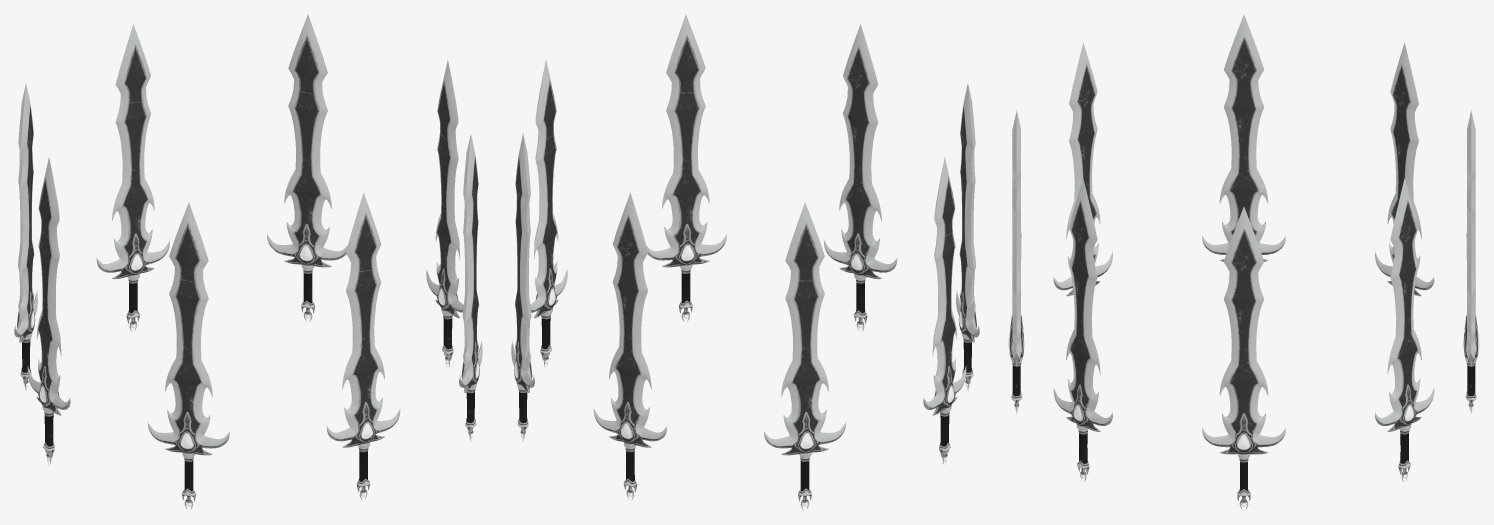
File: sword-dance.glb
The picture shows the model from 3 angles, left to right: view 1: azimuth 30°, elevation 25°; view 2: azimuth 150°, elevation 25°; view 3: azimuth 270°, elevation 25°; orthographic projection.
Parts seen in each view (by area): view 1: MagicSword.002; view 2: MagicSword.002; view 3: MagicSword.002.
Part boxes in pixels (x1,y1,x2,y2): MagicSword.002: (14, 14, 482, 510); MagicSword.002: (511, 14, 979, 510); MagicSword.002: (1008, 14, 1479, 510).
Size of the model in its own units: 3.74 by 2.67 by 3.74.
Materials: 8 (8 with a texture image).
